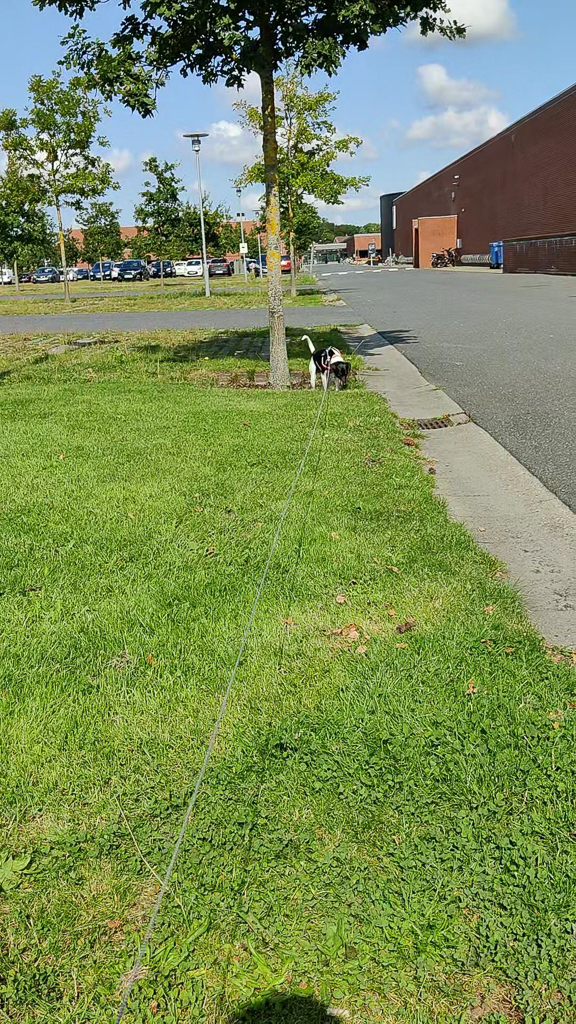Dog: (298, 329, 358, 397)
